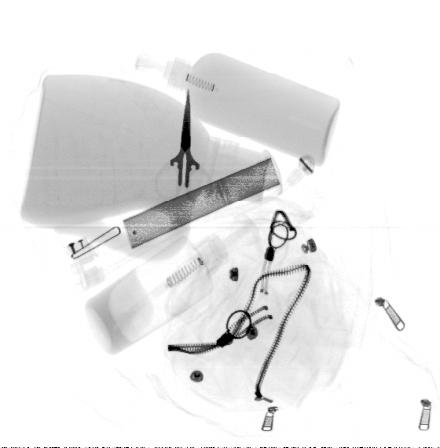Scissors: (156, 86, 210, 204)
